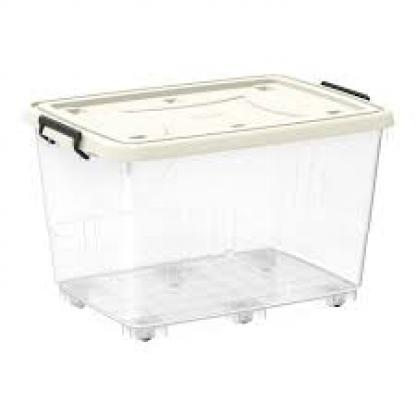plastic_box: (13, 48, 412, 379)
